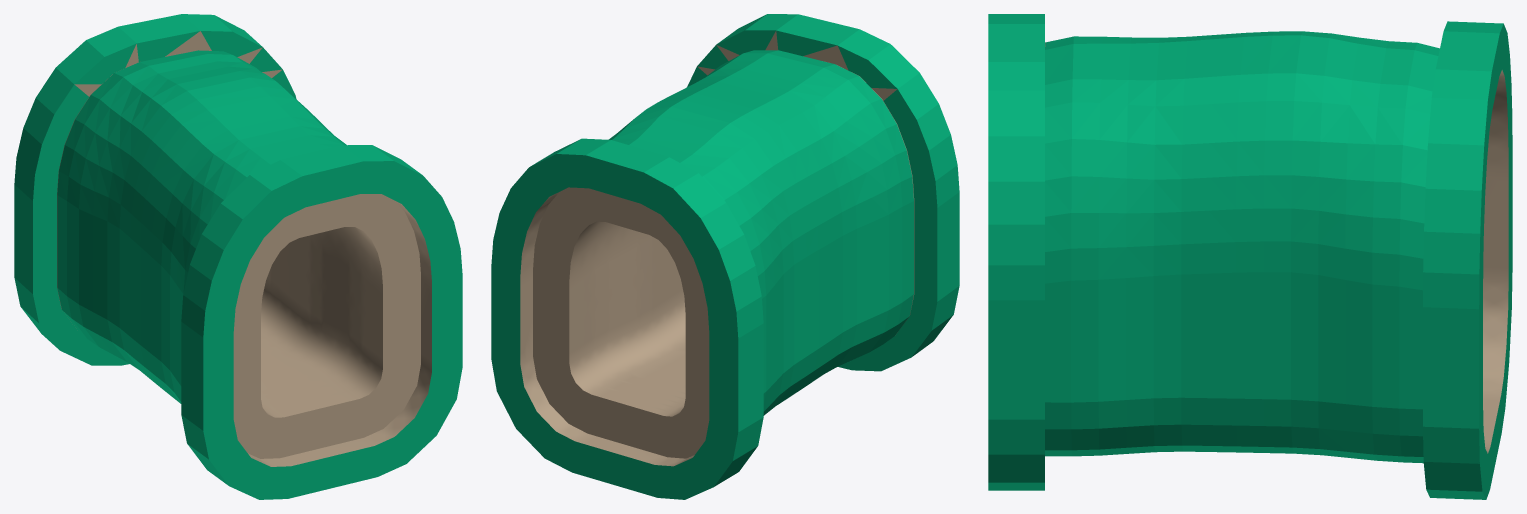
The picture shows the model from 3 angles, left to right: view 1: azimuth 30°, elevation 25°; view 2: azimuth 150°, elevation 25°; view 3: azimuth 270°, elevation 25°; orthographic projection. The views are drawn at different scales.
Parts seen in each view (by area): view 1: TT_Curve_5_A_LOD0; view 2: TT_Curve_5_A_LOD0; view 3: TT_Curve_5_A_LOD0.
Part boxes in pixels (left/top/right/bottom): TT_Curve_5_A_LOD0: left=14, top=14, right=462, bottom=499; TT_Curve_5_A_LOD0: left=491, top=14, right=959, bottom=499; TT_Curve_5_A_LOD0: left=988, top=14, right=1512, bottom=499.
Bounding box in the file's own units: 359 × 400 × 464.
